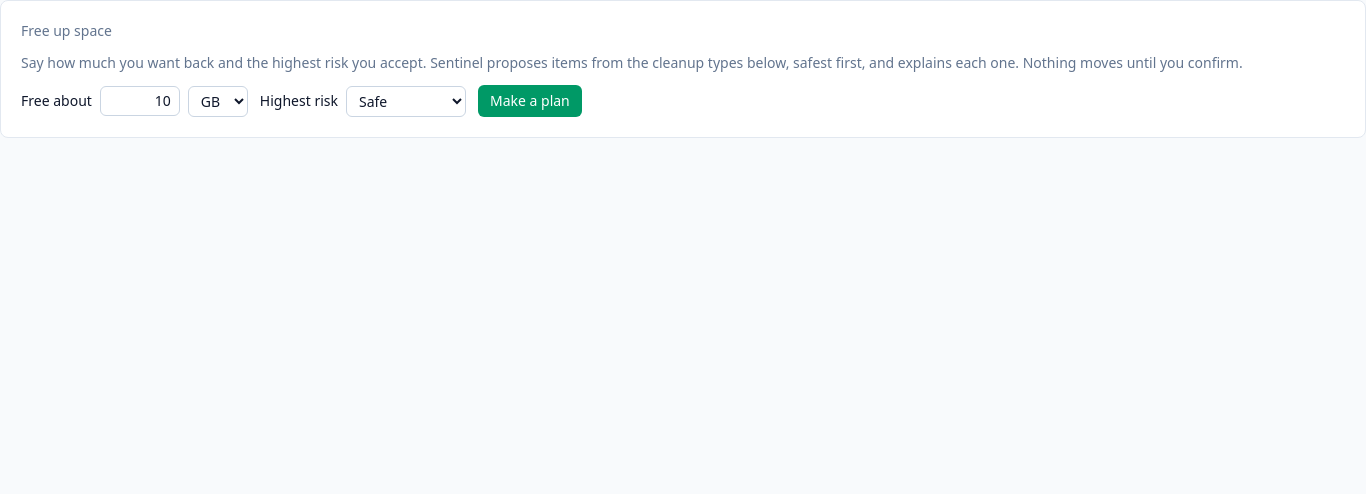
Scenario: RecoveryPlanPanel › sends the amount in bytes and the chosen ceiling, then explains each item
Replace the text in the field named "Amount" with "250" at (140, 101), box [100,86,180,116]
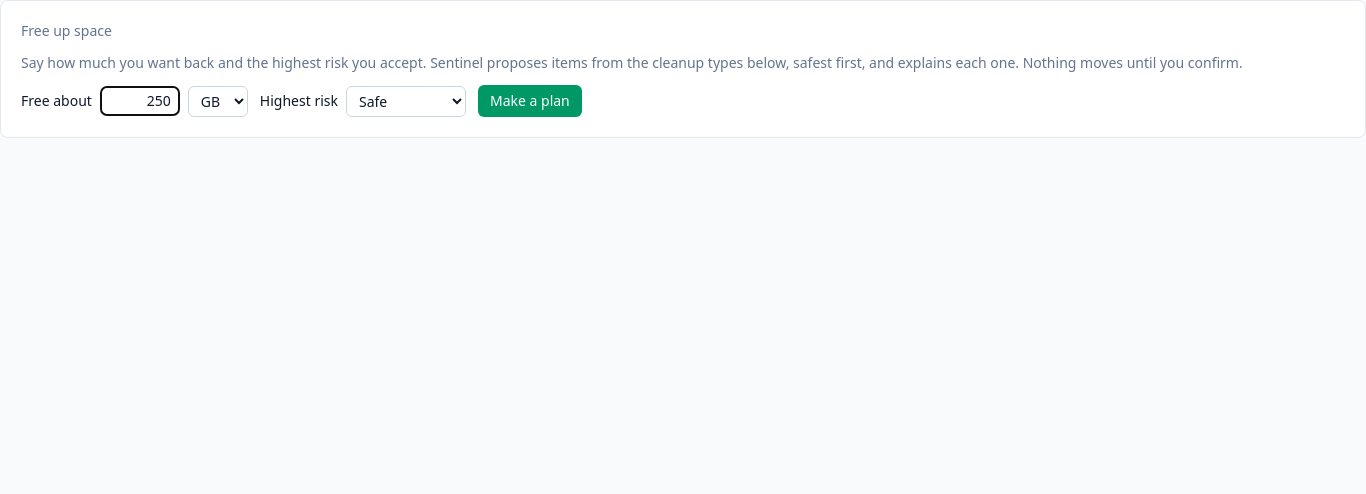
Select "MB" in the dropdown named "Unit" at (218, 101), box [188,86,248,116]
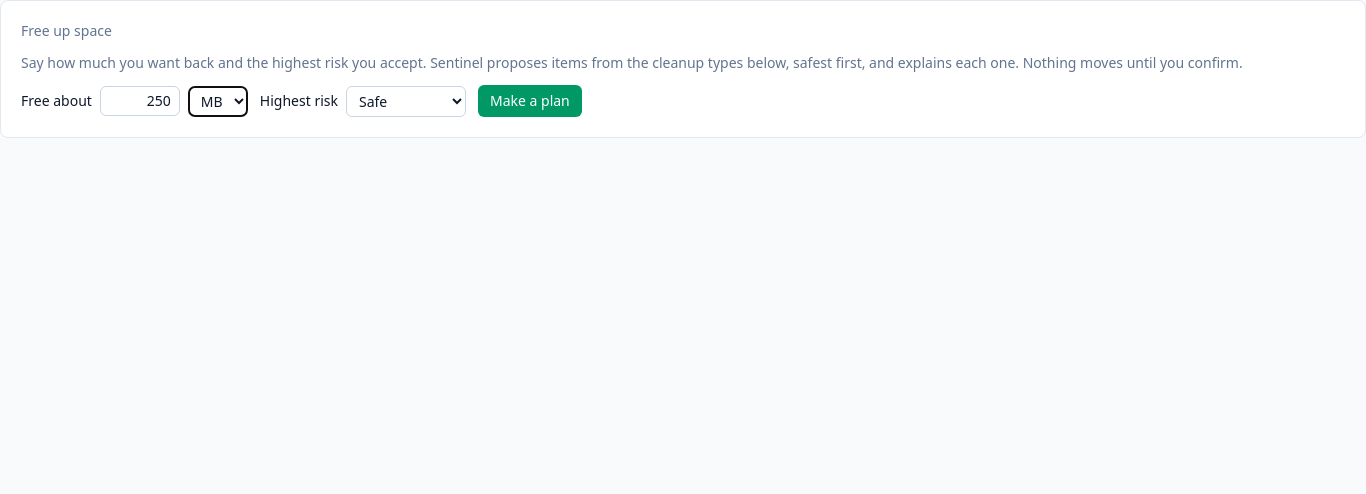
Click the button "Make a plan" at (530, 101), box [478,85,582,117]
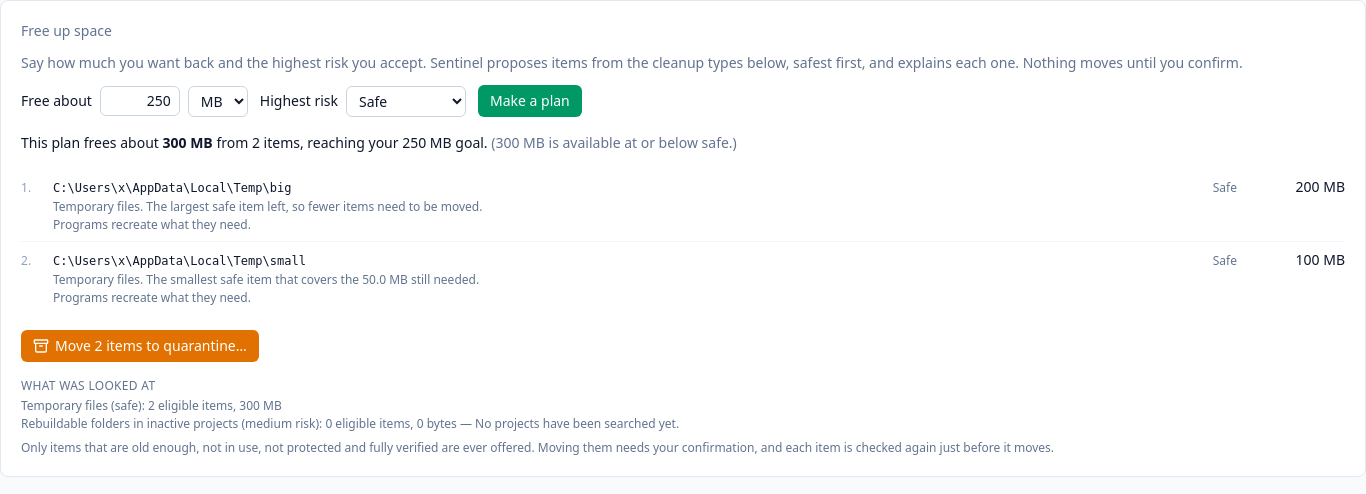
Now the text "reaching your 250 MB goal" is shown, box [21,133,737,152]
Now the text "The smallest safe item that covers" is shown, box [146,271,479,288]
Now the list item "No projects have been searched yet" is shown, box [457,415,679,432]
